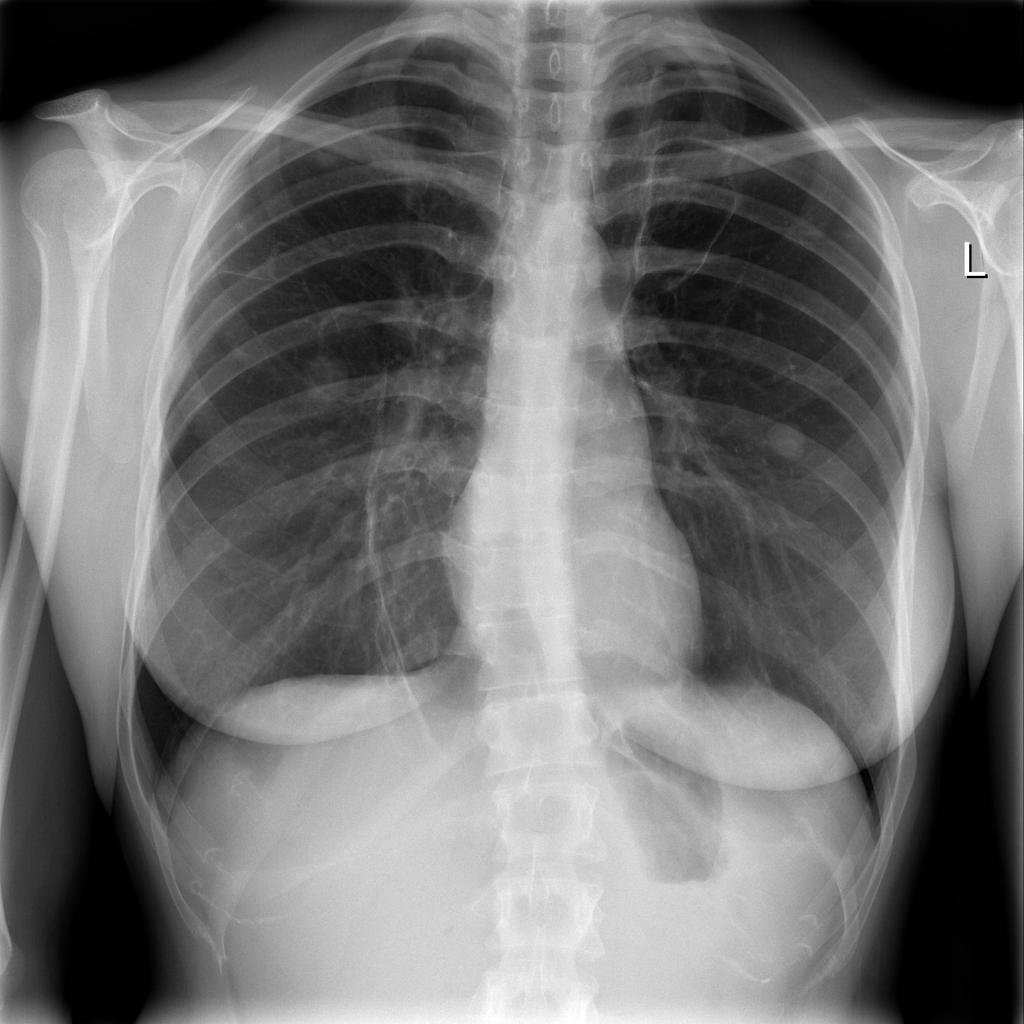nodule: (283, 341, 364, 419), (752, 404, 825, 476), (297, 133, 355, 179)
